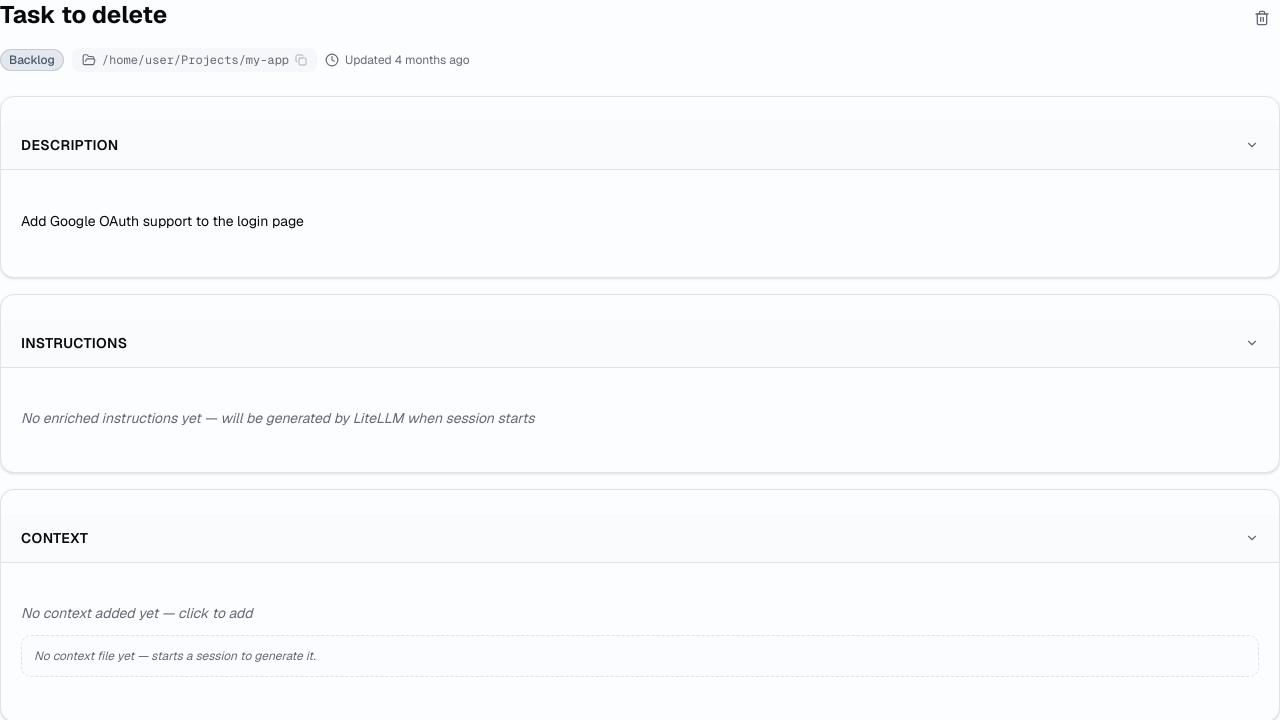
TaskDetail › opens confirm delete dialog on delete button click
Click the button named "delete task" at (1262, 18), box 1244,0 -> 1279,36
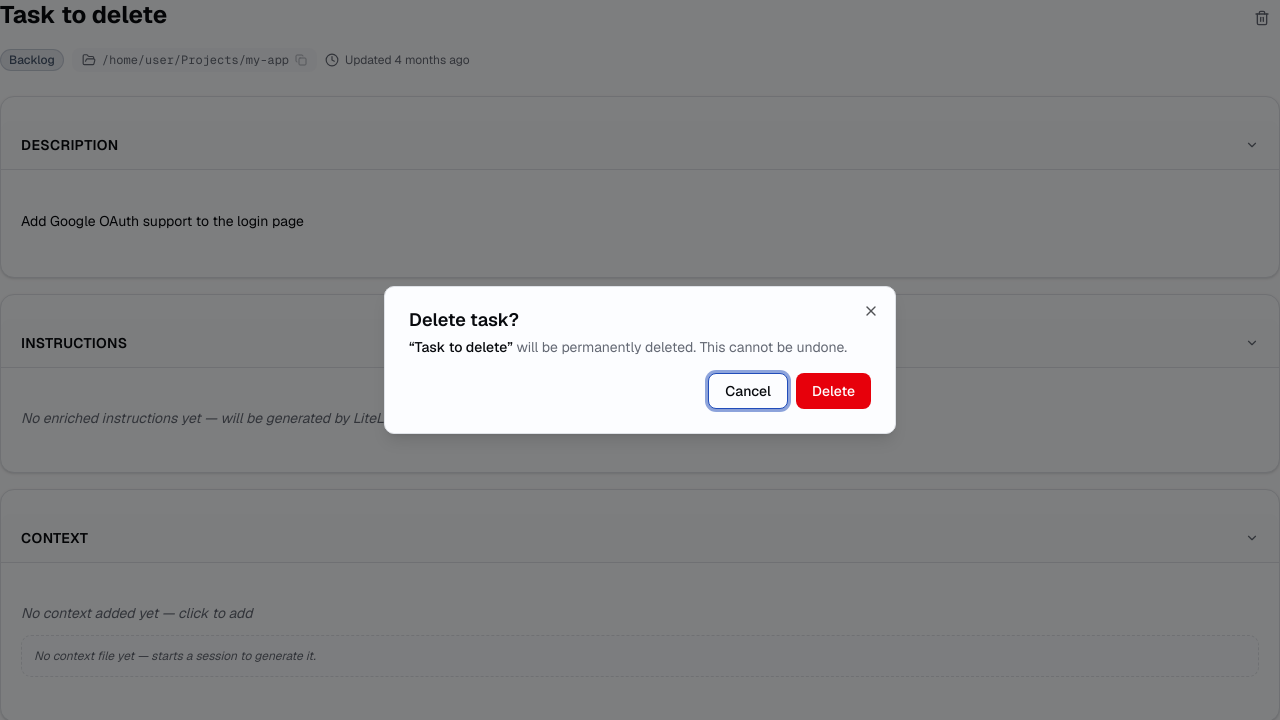
Result: the heading "Delete task?" is shown at 409,308 -> 519,331
